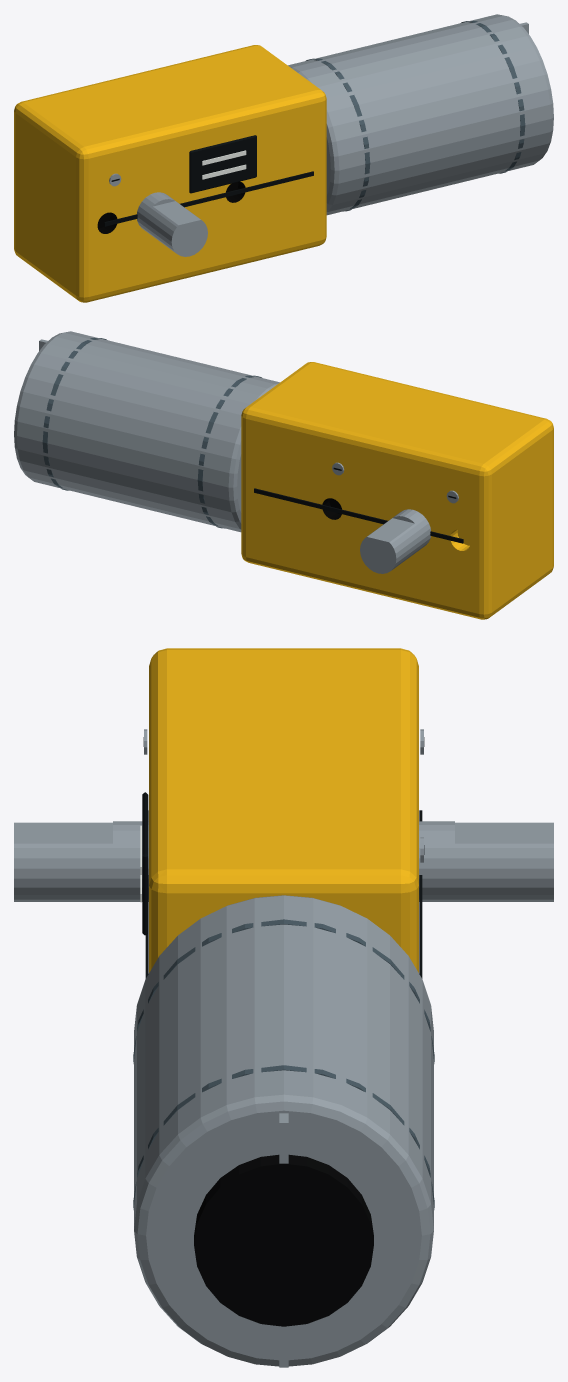
File: tt_motor.obj
3 views of the same model, one above another, from view 1: azimuth 30°, elevation 25°; view 2: azimuth 150°, elevation 25°; view 3: azimuth 270°, elevation 25° (orthographic). The views are drawn at different scales.
Parts seen in each view (by area): view 1: tt_motor; view 2: tt_motor; view 3: tt_motor.
Boxes of the visible parts, left/top/right/bottom form: tt_motor: left=14, top=14, right=553, bottom=302; tt_motor: left=14, top=331, right=553, bottom=619; tt_motor: left=14, top=648, right=553, bottom=1367.
Bounding box in the file's own units: 0.0715 × 0.022 × 0.036.
